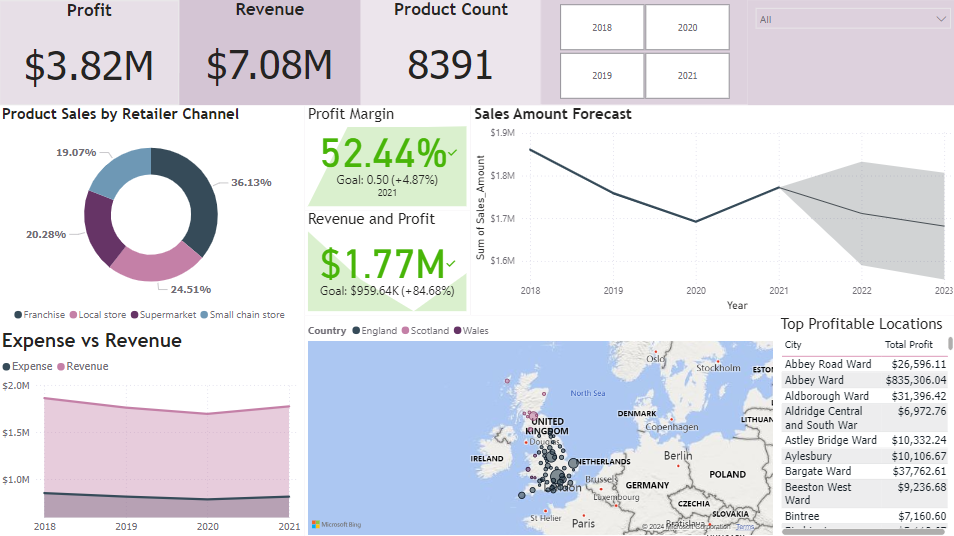

What the dashboard file says about the page in this screenshot:
{"tool":"powerbi","page":{"name":"CEO","canvas":[1280,720],"ordinal":3},"visuals":[{"type":"areaChart","title":"Expense vs Revenue","fields":{"Y":["Sum(Orders.Cost_of_Goods_Sold)","Sum(Orders.Sales_Amount)"],"Category":["Orders.Order_Date.Variation.Date Hierarchy.Year","Orders.Order_Date.Variation.Date Hierarchy.Quarter","Orders.Order_Date.Variation.Date Hierarchy.Month","Orders.Order_Date.Variation.Date Hierarchy.Day"]},"box":[0,440,408.3,280],"z":0},{"type":"card","title":"Profit","fields":{"Values":["Sum(Orders.Profit)"]},"box":[1.4,1.4,240,140],"z":1000},{"type":"card","title":"Revenue","fields":{"Values":["Sum(Orders.Sales_Amount)"]},"box":[241.4,0,241.4,141.4],"z":2000},{"type":"card","title":"Product Count","fields":{"Values":["CountNonNull(Orders.Order_ID)"]},"box":[482.9,0,241.4,141.4],"z":3000},{"type":"slicer","fields":{"Values":["Orders.Order_Date.Variation.Date Hierarchy.Year"]},"box":[723.8,0,276.2,140],"z":4000},{"type":"donutChart","title":"Product Sales by Retailer Channel","fields":{"Category":["Retailers.Retailer_Channel","Products.Product_Category"],"Y":["CountNonNull(Orders.Order_ID)"]},"box":[0,141.7,408.3,298.3],"z":5000},{"type":"map","fields":{"Category":["Retailers.Region"],"Series":["Retailers.Country"],"Size":["Sum(Orders.Profit)"]},"box":[408.3,421.7,630,298.3],"z":6000},{"type":"slicer","fields":{"Values":["Retailers.Area"]},"box":[1000,1.2,280,140],"z":7000},{"type":"tableEx","title":"Top Profitable Locations","fields":{"Values":["Retailers.City","Sum(Orders.Profit)"]},"box":[1038.3,421.7,241.7,298.3],"z":8000},{"type":"lineChart","title":"Sales Amount Forecast","fields":{"Category":["Orders.Order_Date.Variation.Date Hierarchy.Year","Orders.Order_Date.Variation.Date Hierarchy.Quarter","Orders.Order_Date.Variation.Date Hierarchy.Month","Orders.Order_Date.Variation.Date Hierarchy.Day"],"Y":["Sum(Orders.Sales_Amount)"]},"box":[630,141.7,650,280],"z":9000},{"type":"kpi","title":"Profit Margin","fields":{"TrendLine":["Orders.Order_Date.Variation.Date Hierarchy.Year"],"Goal":["Orders.Profit Margin"],"Indicator":["Avg(Orders.Profit_Margin)"]},"box":[408.3,141.7,221.7,140],"z":10000},{"type":"kpi","title":"Revenue and Profit","fields":{"Indicator":["Sum(Orders.Sales_Amount)"],"Goal":["Sum(Orders.Profit)"],"TrendLine":["Orders.Order_Date.Variation.Date Hierarchy.Year"]},"box":[408.3,281.7,221.7,140],"z":11000}]}

Visuals, with their boxes in screenshot pixels (x1, y1, x2, y2), scaled from the page's 1280x720 canvas onto the 954x536 screenshot:
"Expense vs Revenue" areaChart: [left=0, top=328, right=304, bottom=535]
"Profit" card: [left=1, top=1, right=180, bottom=105]
"Revenue" card: [left=180, top=0, right=360, bottom=105]
"Product Count" card: [left=360, top=0, right=540, bottom=105]
slicer - Orders.Order_Date.Variation.Date Hierarchy.Year: [left=539, top=0, right=745, bottom=104]
"Product Sales by Retailer Channel" donutChart: [left=0, top=105, right=304, bottom=328]
map - Retailers.Region x Retailers.Country: [left=304, top=314, right=774, bottom=535]
slicer - Retailers.Area: [left=745, top=1, right=953, bottom=105]
"Top Profitable Locations" tableEx: [left=774, top=314, right=953, bottom=535]
"Sales Amount Forecast" lineChart: [left=470, top=105, right=953, bottom=314]
"Profit Margin" kpi: [left=304, top=105, right=470, bottom=210]
"Revenue and Profit" kpi: [left=304, top=210, right=470, bottom=314]
